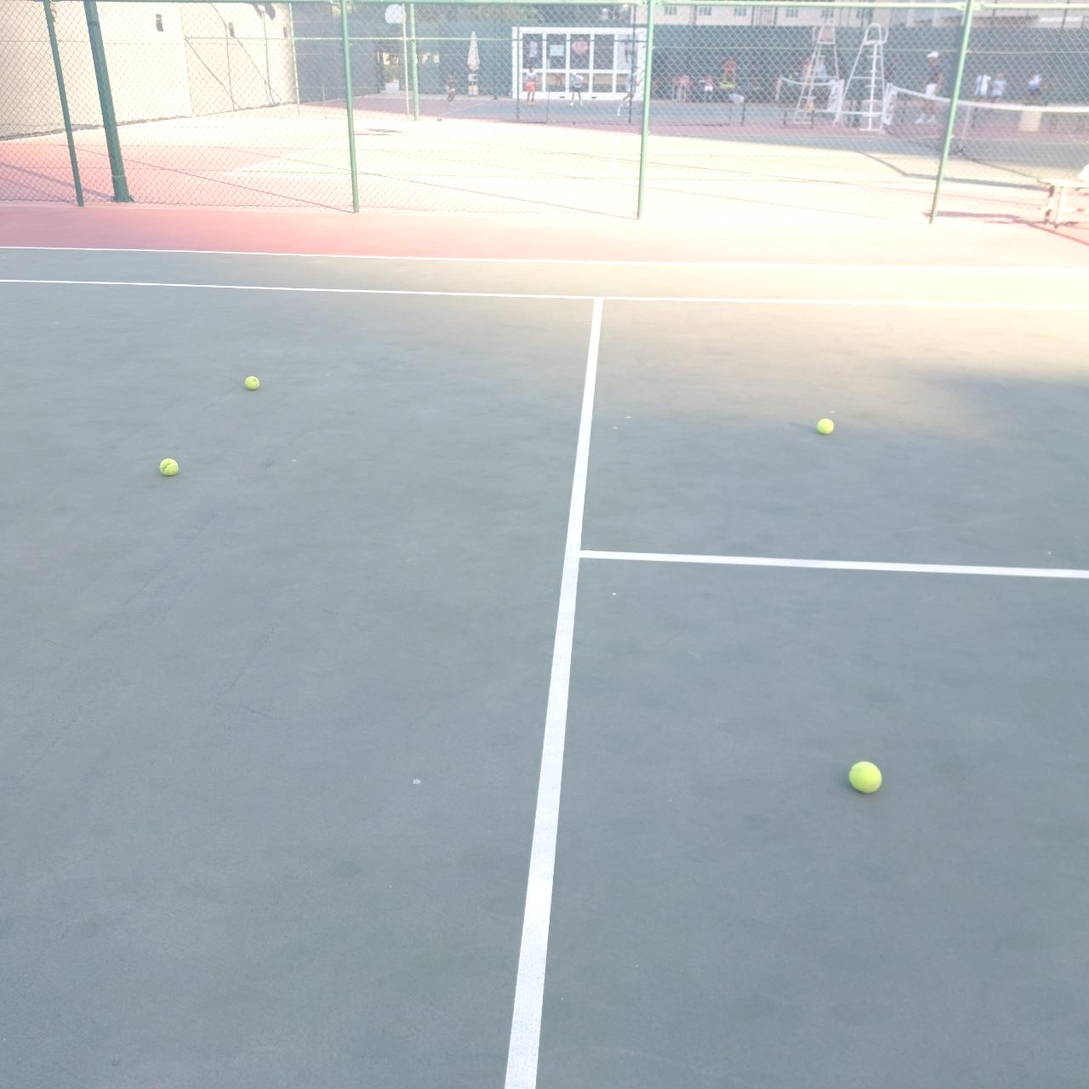tennis-ball: (848, 758, 884, 794), (159, 455, 181, 476), (817, 415, 836, 436), (244, 373, 262, 391)
